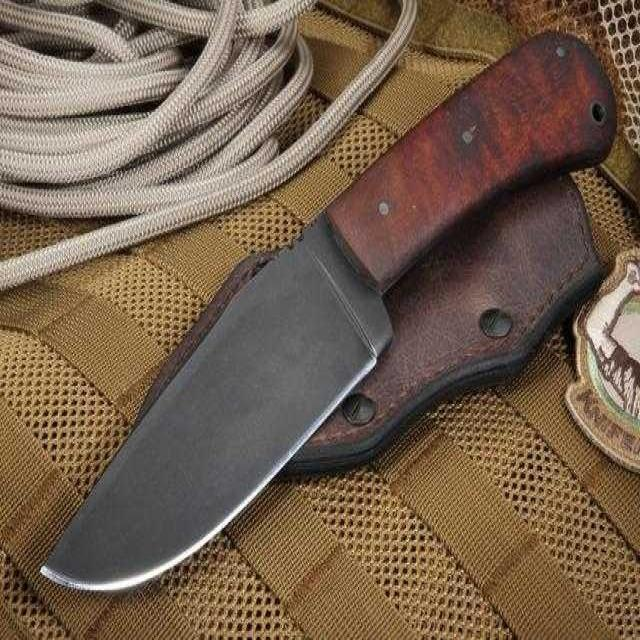knife: (37, 22, 618, 603)
